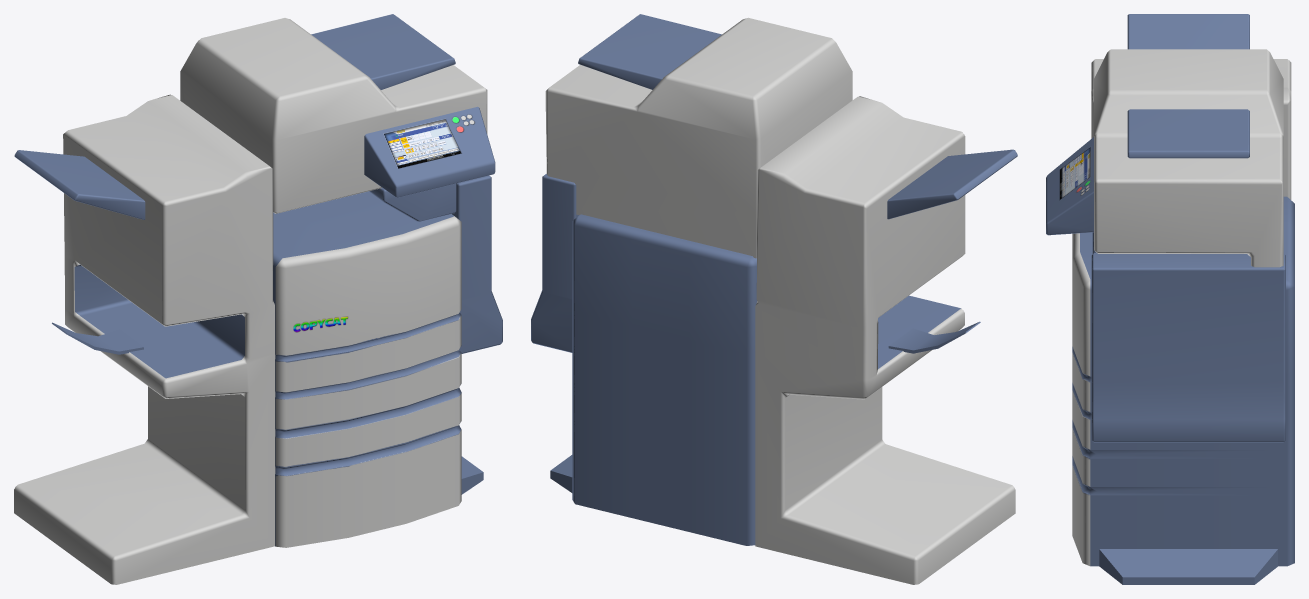
Rendered from CopyMachine.fbx.
3 renders of one model, left to right at view 1: azimuth 30°, elevation 25°; view 2: azimuth 150°, elevation 25°; view 3: azimuth 270°, elevation 25°, orthographic.
Visible parts, largest first — view 1: pCube11; view 2: pCube11; view 3: pCube11.
Boxes of the visible parts, x1,y1,x2,y2 form: pCube11: (14, 14, 502, 584); pCube11: (531, 14, 1017, 584); pCube11: (1046, 14, 1294, 584).
Size of the model in its own units: 5.65 by 5.78 by 3.
Materials: 1 (1 with a texture image).
